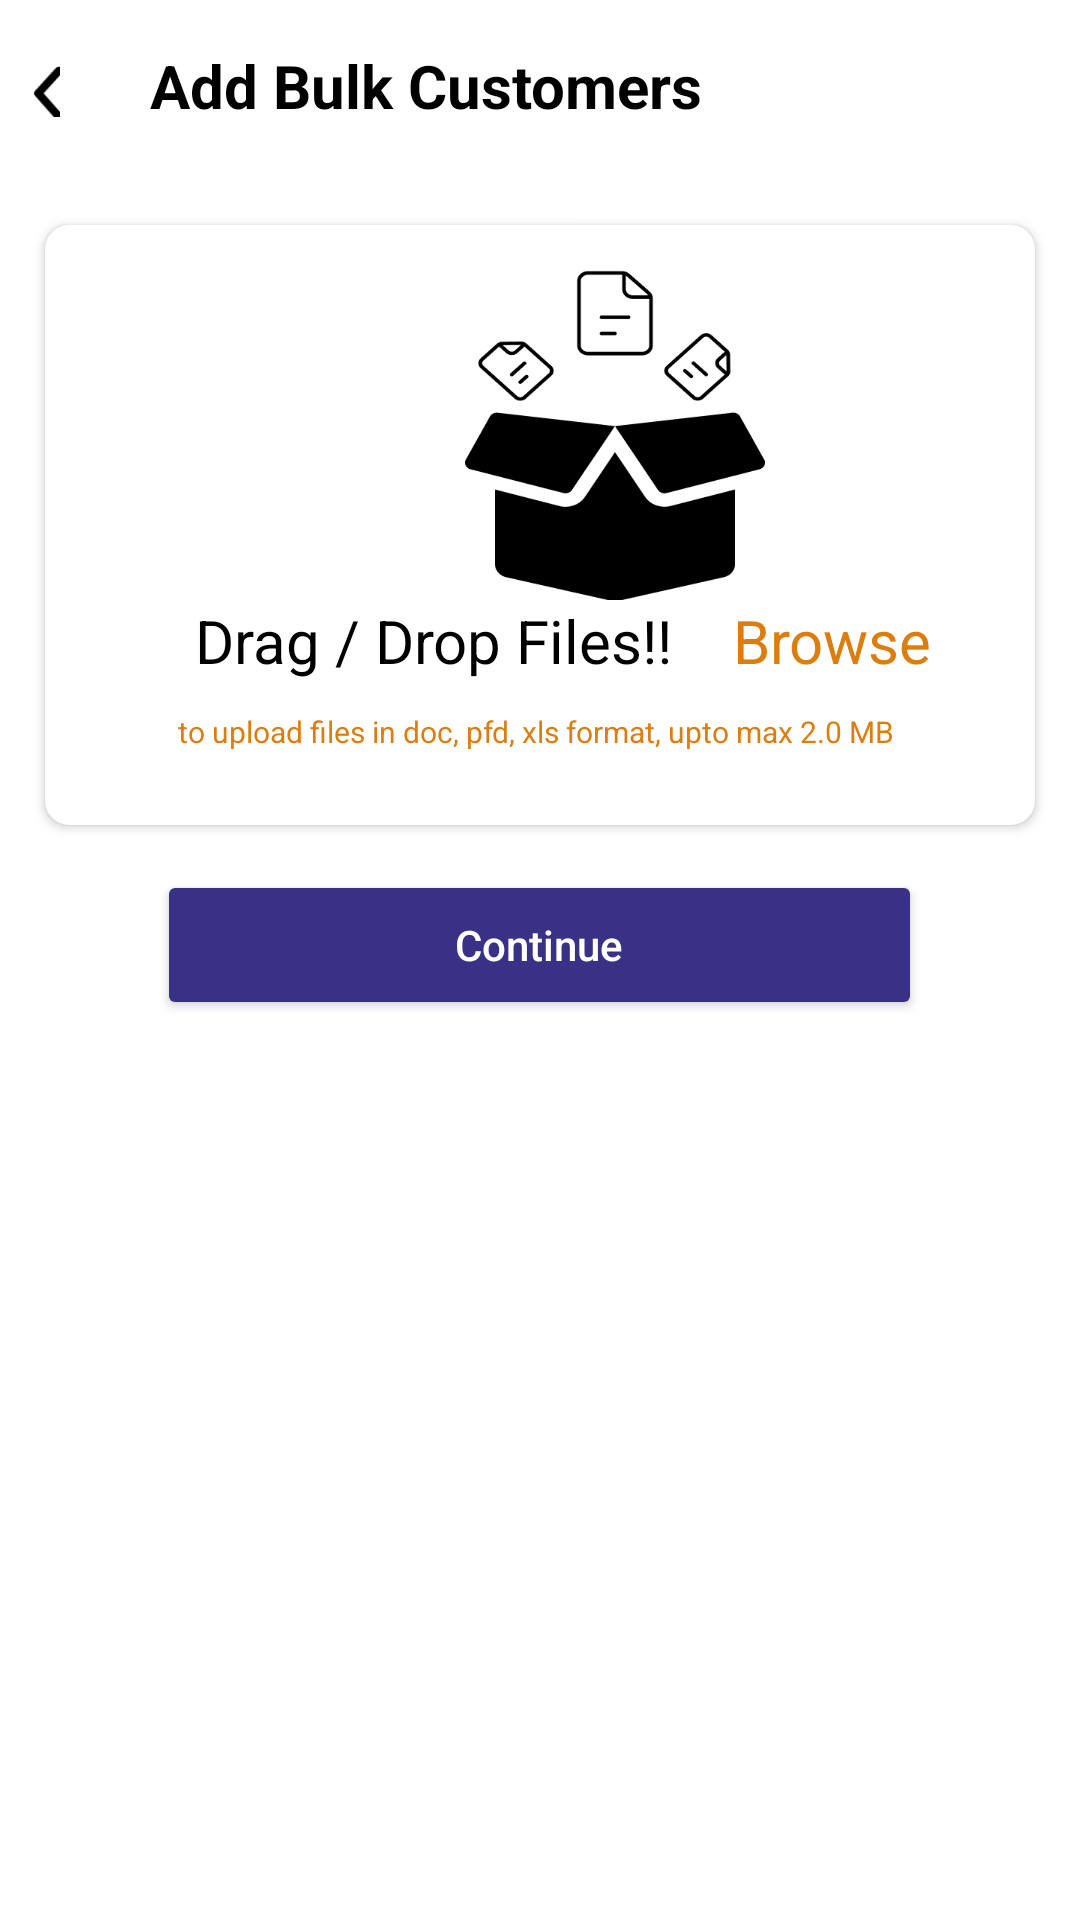

Screen size 1080px×1920px. Icon name, then its center in pixels as point (x, y):
arrowback: point (47, 91)
